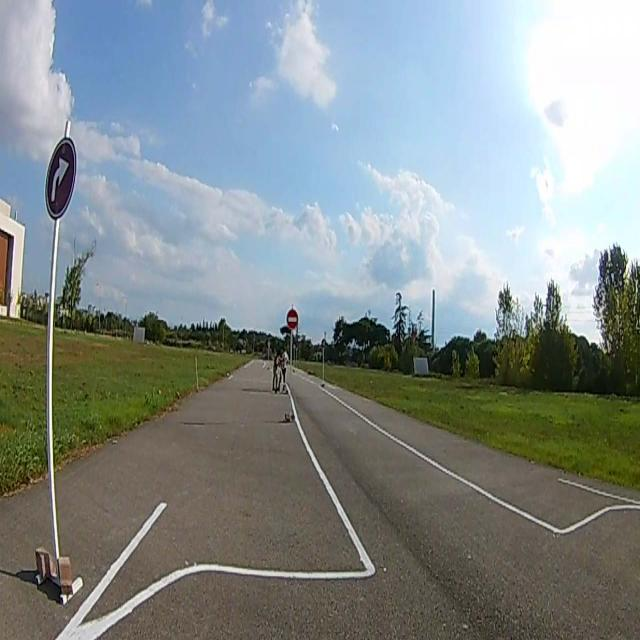girisyok: (287, 309, 298, 330)
sag: (45, 137, 75, 212)
